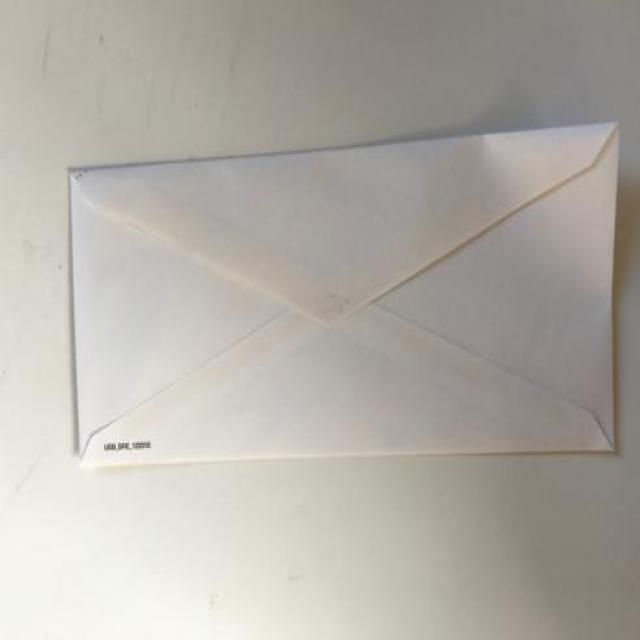kertas: (65, 116, 622, 470)
